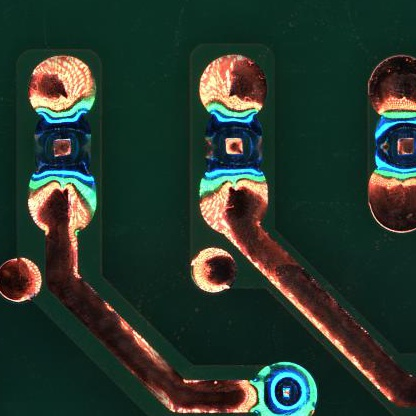spot: (202, 112, 263, 177), (253, 361, 316, 416), (36, 112, 89, 176), (370, 112, 416, 178)
